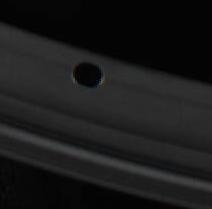holes: (73, 60, 104, 87)
